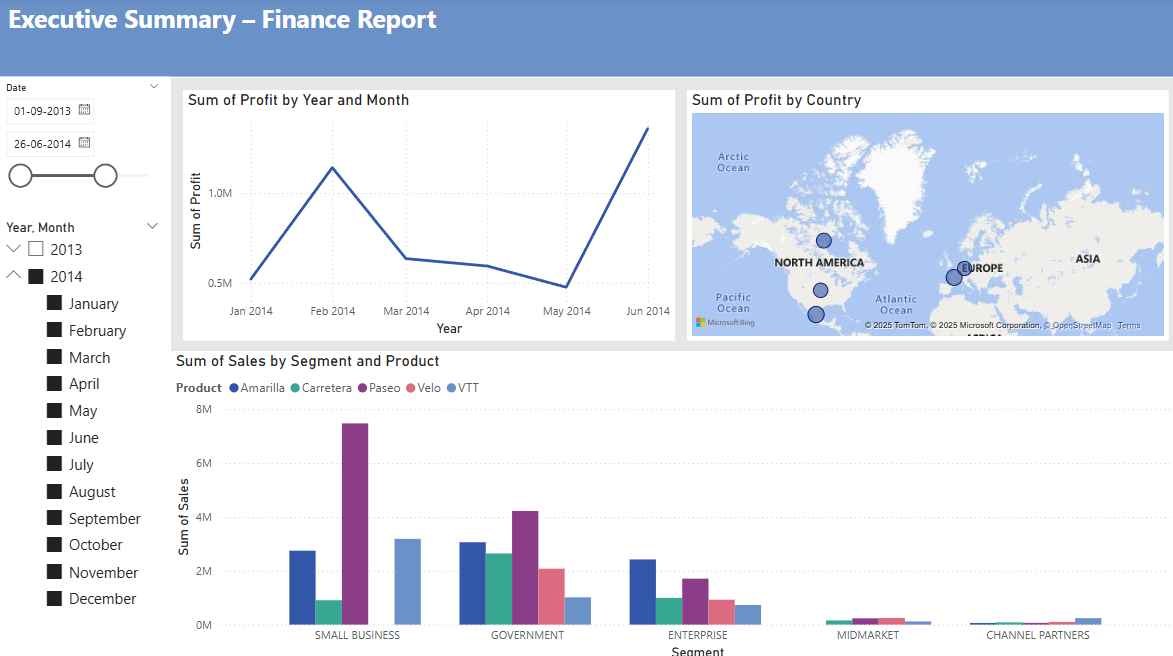

The dashboard page shown, as its layout file describes it:
{"tool":"powerbi","page":{"name":"Page 1","canvas":[1280,720],"ordinal":0},"visuals":[{"type":"shape","box":[191.1,87.4,1088.1,294.7],"z":0},{"type":"shape","box":[0,0,1280,86.2],"z":1000},{"type":"textbox","box":[10,0,485,65],"z":2000},{"type":"lineChart","fields":{"Category":["Calendar.Date.Variation.Date Hierarchy.Year","Calendar.Date.Variation.Date Hierarchy.Month"],"Y":["Sum(financials.Profit)"]},"box":[204,100.4,531.1,270.4],"z":3000},{"type":"map","fields":{"Category":["financials.Country"],"Size":["Sum(financials.Profit)"]},"box":[748.1,100.4,519.8,270.4],"z":4000},{"type":"clusteredColumnChart","fields":{"Y":["Sum(financials.Sales)"],"Category":["financials.Segment"],"Series":["financials.Product"]},"box":[190.9,381.7,1088.5,338.3],"z":5000},{"type":"slicer","fields":{"Values":["financials.Date"]},"box":[0,86.2,190,146.2],"z":6000},{"type":"slicer","fields":{"Values":["Calendar.Date.Variation.Date Hierarchy.Year","Calendar.Date.Variation.Date Hierarchy.Month"]},"box":[0,235,190,485],"z":7000}]}

Visuals, with their boxes on the page's 1280x720 design canvas (x1, y1, x2, y2). These are canvas units, not pixel positions in the 1173x656 screenshot, which may show the page scaled, cropped or inside an application window:
shape: 191,87,1279,382
shape: 0,0,1280,86
textbox: 10,0,495,65
lineChart - Calendar.Date.Variation.Date Hierarchy.Year x Calendar.Date.Variation.Date Hierarchy.Month: 204,100,735,371
map - financials.Country x Sum(financials.Profit): 748,100,1268,371
clusteredColumnChart - Sum(financials.Sales) x financials.Segment: 191,382,1279,720
slicer - financials.Date: 0,86,190,232
slicer - Calendar.Date.Variation.Date Hierarchy.Year x Calendar.Date.Variation.Date Hierarchy.Month: 0,235,190,720
